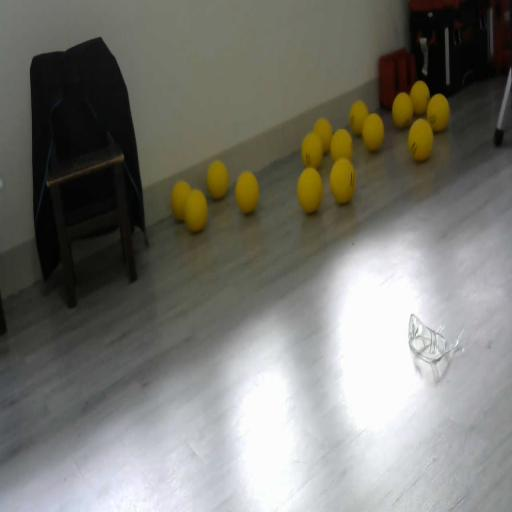FUEL: (329, 158, 356, 205), (297, 167, 322, 214), (234, 170, 260, 214), (408, 118, 434, 161), (170, 179, 193, 222), (426, 93, 450, 133), (362, 112, 385, 152), (206, 160, 228, 200), (330, 128, 353, 164), (313, 116, 333, 154), (392, 92, 413, 128), (410, 80, 430, 116)
